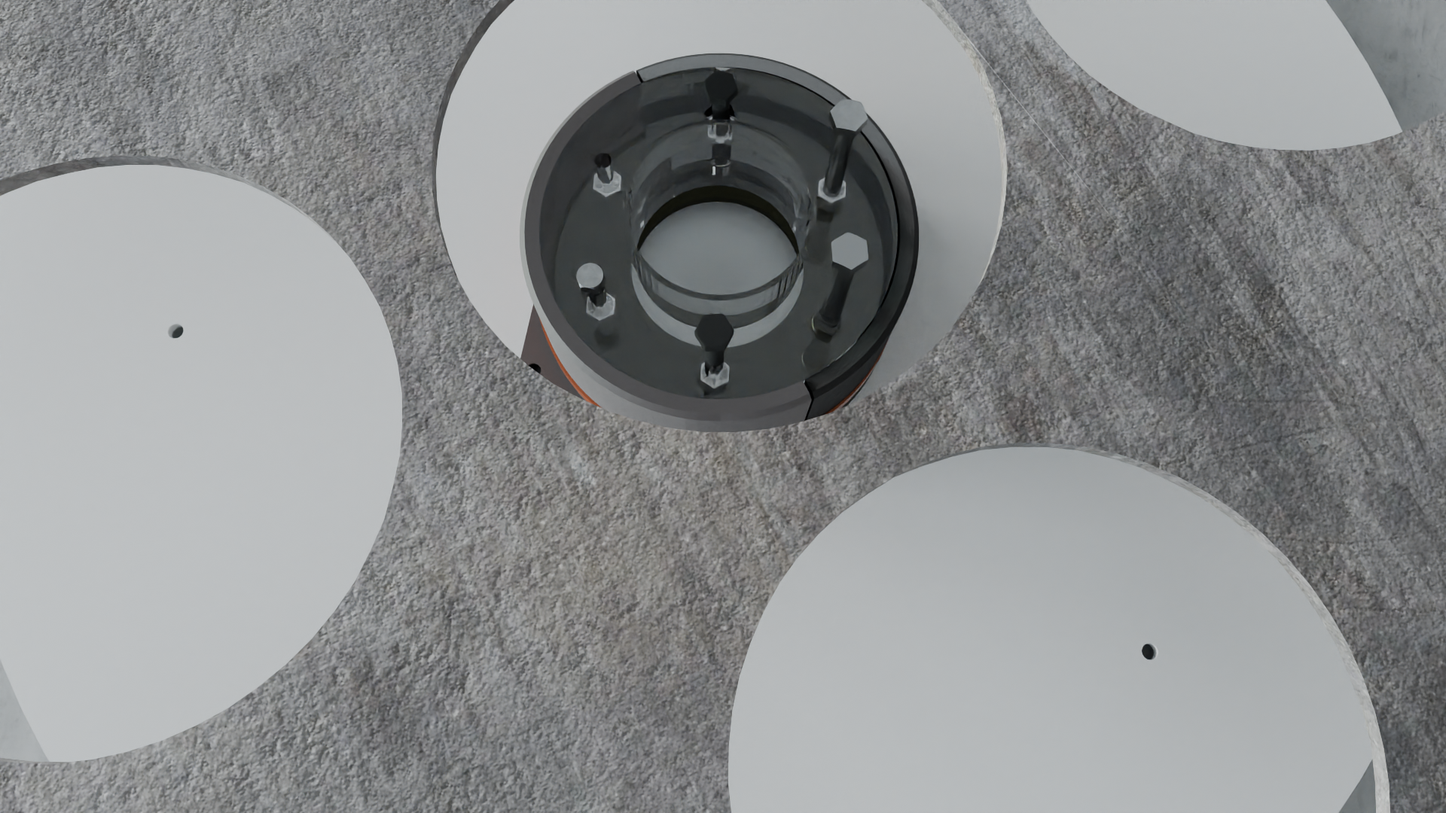bolt: (831, 232, 868, 270), (694, 314, 734, 347), (830, 99, 868, 131), (703, 71, 738, 100), (575, 263, 606, 291)
